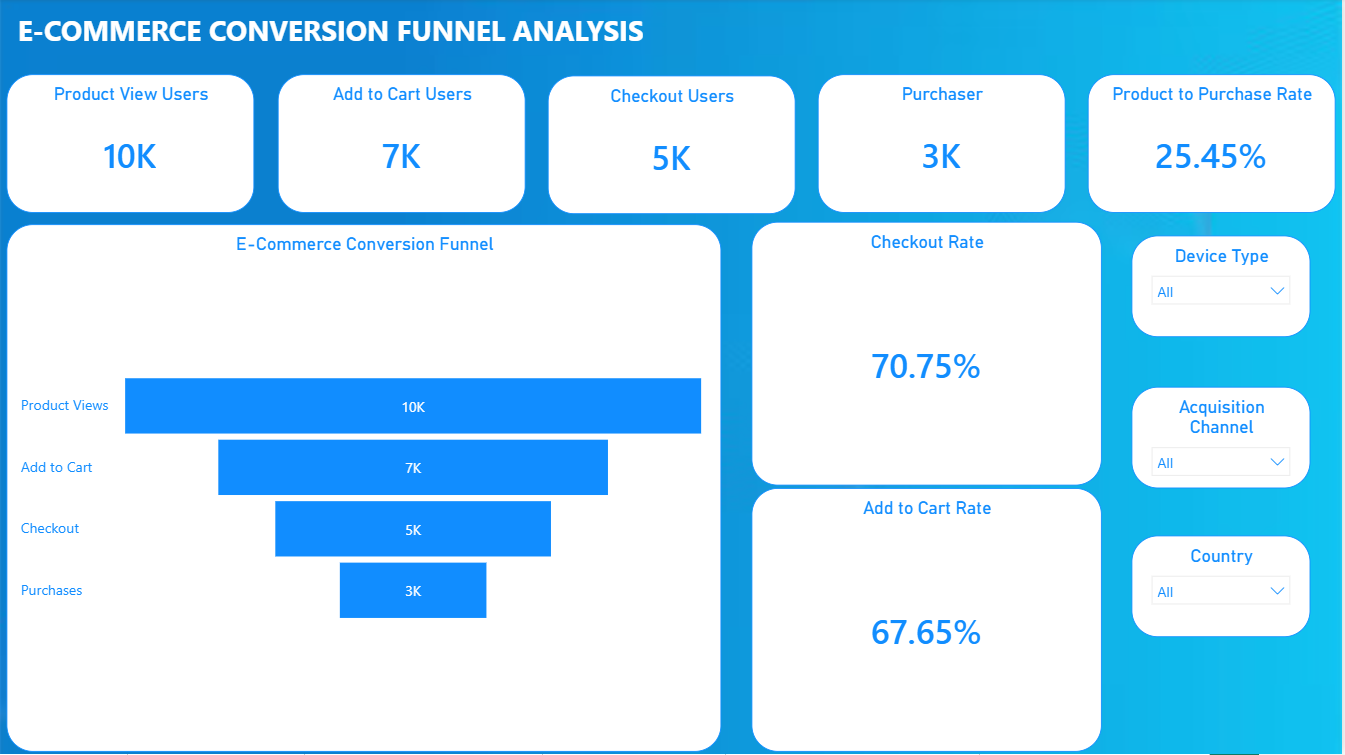

Layout of this report page (visuals, bound fields, positions):
{"tool":"powerbi","page":{"name":"Conversion Funnel","canvas":[1280,720],"ordinal":1},"visuals":[{"type":"textbox","box":[6.9,6.9,617.5,49.4],"z":0},{"type":"cardVisual","title":"Product View Users","fields":{"Data":["events_cleaned.Product View Users"]},"box":[7.1,72.6,235.7,132.1],"z":1000},{"type":"cardVisual","title":"Add to Cart Users","fields":{"Data":["events_cleaned.Add to Cart Users"]},"box":[265.5,72.6,235.7,132.1],"z":2000},{"type":"cardVisual","title":"Checkout Users","fields":{"Data":["events_cleaned.Checkout Users"]},"box":[522.6,73.8,235.7,132.1],"z":3000},{"type":"cardVisual","title":"Purchaser","fields":{"Data":["events_cleaned.Purchasers"]},"box":[779.8,72.6,235.7,132.1],"z":4000},{"type":"cardVisual","title":"Product to Purchase Rate","fields":{"Data":["events_cleaned.Product to Purchase Rate"]},"box":[1036.9,72.6,235.7,132.1],"z":5000},{"type":"funnel","title":"E-Commerce Conversion Funnel","fields":{"Category":["FunnelStages.Funnel Stage"],"Y":["FunnelStages.Funnel Users"]},"box":[7.1,215.5,681,502.4],"z":6000},{"type":"cardVisual","title":"Add to Cart Rate","fields":{"Data":["FunnelStages.Add to Cart Rate"]},"box":[716.7,466.7,333.3,251.2],"z":7000},{"type":"cardVisual","title":"Checkout Rate","fields":{"Data":["FunnelStages.Checkout Rate"]},"box":[716.7,213.1,333.3,251.2],"z":8000},{"type":"slicer","title":"Device Type","fields":{"Values":["users_cleaned.device_type"]},"box":[1078.6,226.2,170.2,96.4],"z":9000},{"type":"slicer","title":"Acquisition Channel","fields":{"Values":["users_cleaned.acquisition_channel"]},"box":[1078.6,370.2,170.2,96.4],"z":10000},{"type":"slicer","title":"Country","fields":{"Values":["users_cleaned.country"]},"box":[1078.6,511.9,170.2,96.4],"z":11000}]}

Visuals, with their boxes in screenshot pixels (x1, y1, x2, y2), scaled from the page's 1280x720 canvas onto the 1345x755 screenshot:
textbox: crop(7, 7, 656, 59)
"Product View Users" cardVisual: crop(7, 76, 255, 215)
"Add to Cart Users" cardVisual: crop(279, 76, 527, 215)
"Checkout Users" cardVisual: crop(549, 77, 797, 216)
"Purchaser" cardVisual: crop(819, 76, 1067, 215)
"Product to Purchase Rate" cardVisual: crop(1090, 76, 1337, 215)
"E-Commerce Conversion Funnel" funnel: crop(7, 226, 723, 753)
"Add to Cart Rate" cardVisual: crop(753, 489, 1103, 753)
"Checkout Rate" cardVisual: crop(753, 223, 1103, 487)
"Device Type" slicer: crop(1133, 237, 1312, 338)
"Acquisition Channel" slicer: crop(1133, 388, 1312, 489)
"Country" slicer: crop(1133, 537, 1312, 638)
